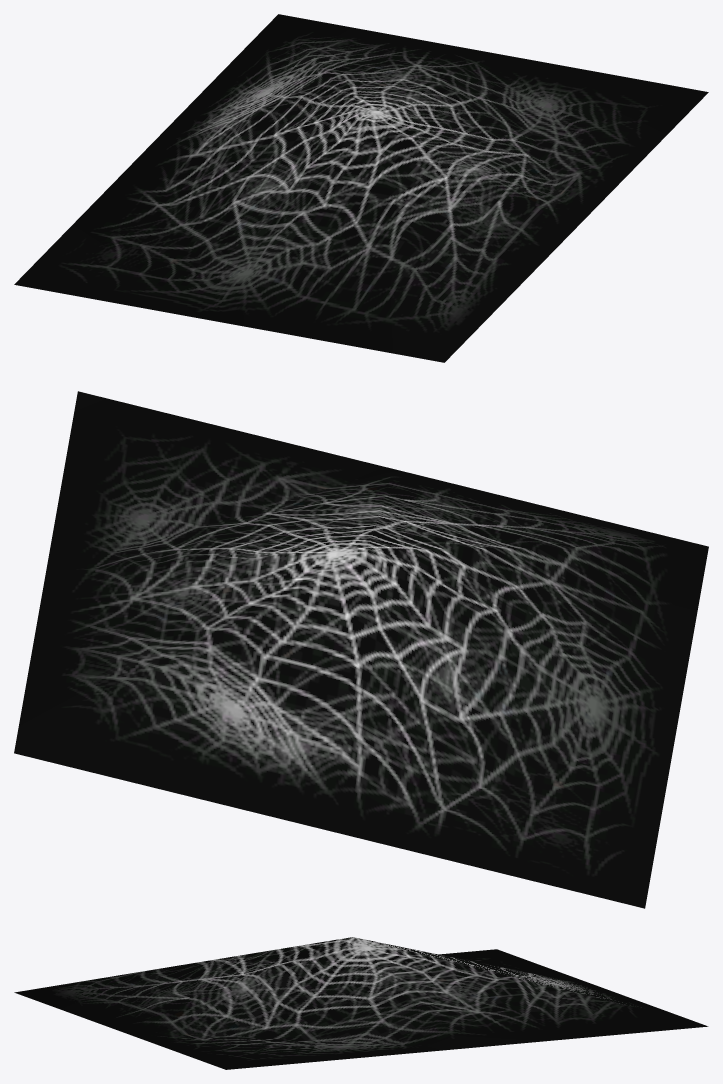
The model's file is MIRKWOOD_PLANE35.fbx.
The picture shows the model from 3 angles, top to bottom: view 1: azimuth 30°, elevation 25°; view 2: azimuth 150°, elevation 25°; view 3: azimuth 270°, elevation 25°; orthographic projection. The views are drawn at different scales.
Visible parts, largest first — view 1: MIRKWOOD_PLANE35; view 2: MIRKWOOD_PLANE35; view 3: MIRKWOOD_PLANE35.
Part boxes in pixels (x1,y1,x2,y2): MIRKWOOD_PLANE35: [14, 14, 708, 362]; MIRKWOOD_PLANE35: [14, 391, 708, 908]; MIRKWOOD_PLANE35: [14, 937, 708, 1069].
Size of the model in its own units: 142510 by 37406 by 151596.
Materials: 1 (1 with a texture image).
